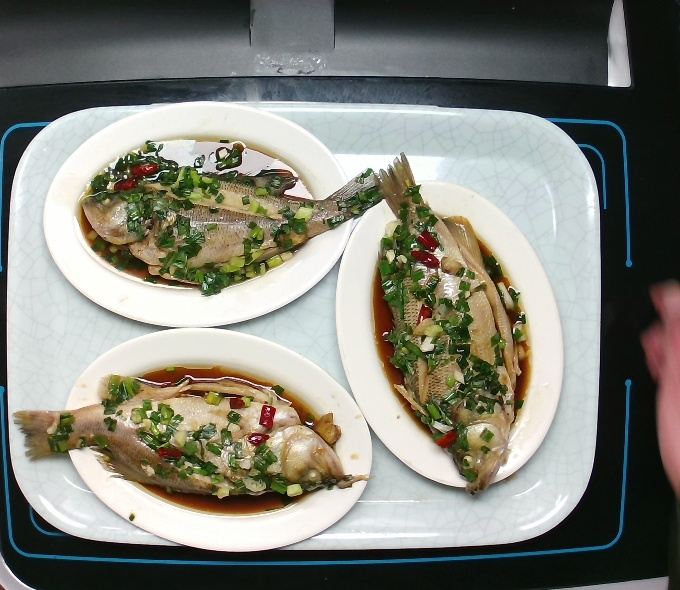wcq-LuYu: (366, 148, 538, 499), (9, 363, 361, 523), (70, 133, 390, 299)
